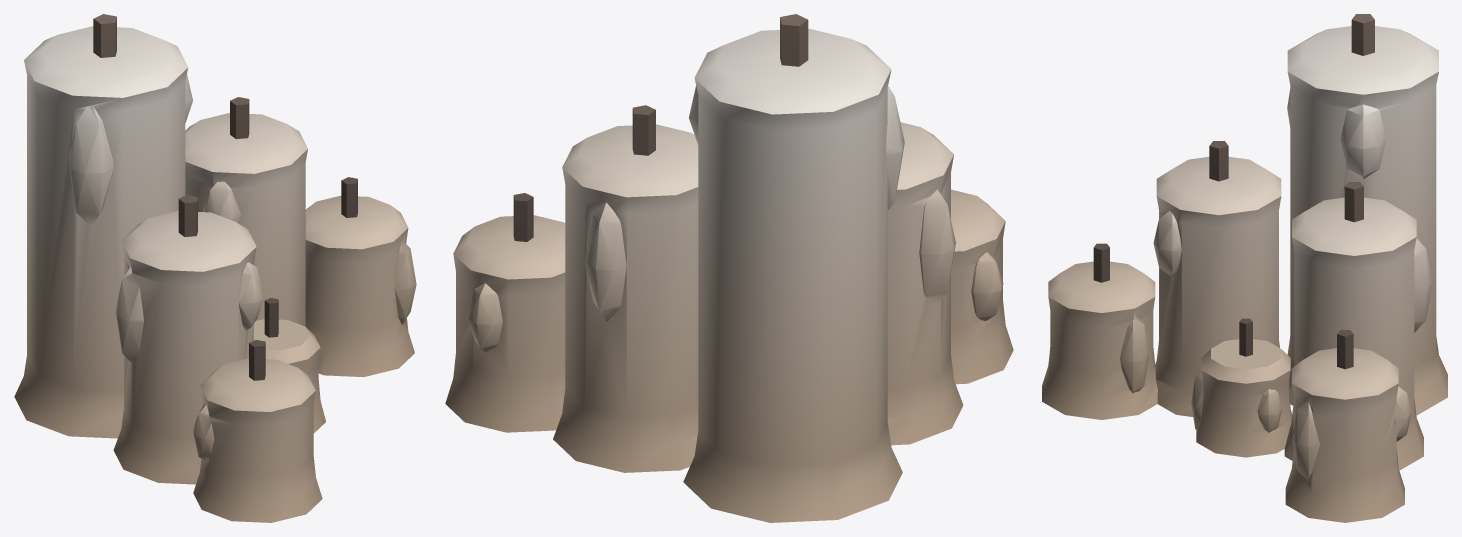
The model's file is candle_corner.glb.
3 renders of one model, left to right at view 1: azimuth 30°, elevation 25°; view 2: azimuth 150°, elevation 25°; view 3: azimuth 270°, elevation 25°, orthographic. The views are drawn at different scales.
Visible parts, largest first — view 1: candle_corner; view 2: candle_corner; view 3: candle_corner.
Boxes of the visible parts, x1,y1,x2,y2 form: candle_corner: (14,14,416,522); candle_corner: (445,14,1013,522); candle_corner: (1042,14,1447,522).
Size of the model in its own units: 0.9164 by 0.916 by 0.8999.
Materials: 1 (1 with a texture image).
